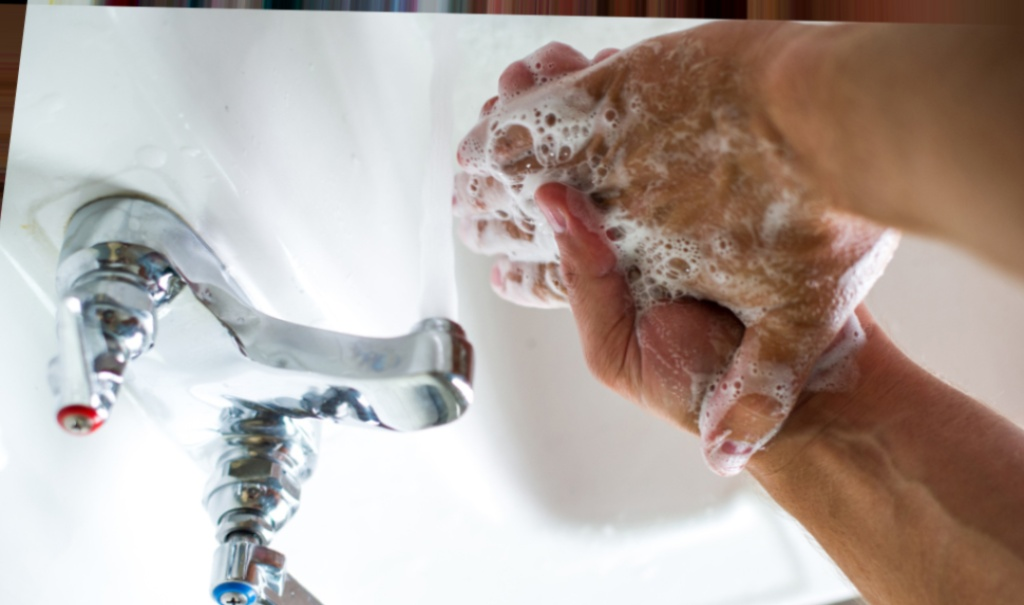washing hand: (172, 26, 953, 604)
